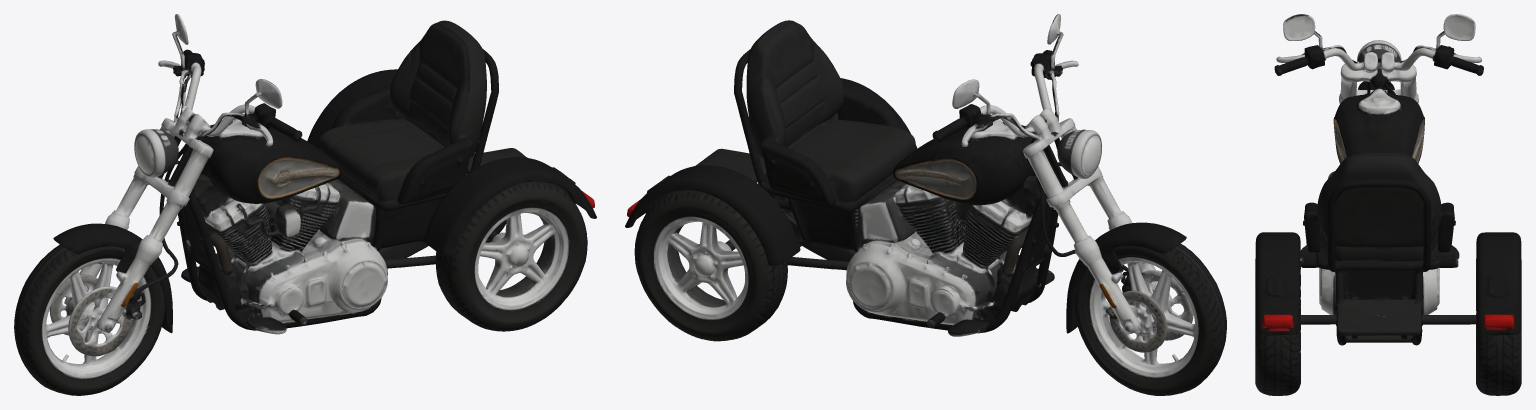
The model's file is 049_trike_three_wheel.glb.
3 views of the same model, side by side, from view 1: azimuth 30°, elevation 25°; view 2: azimuth 150°, elevation 25°; view 3: azimuth 270°, elevation 25° (orthographic). The views are drawn at different scales.
Parts seen in each view (by area): view 1: geometry_0; view 2: geometry_0; view 3: geometry_0.
Part boxes in pixels (x1=…): geometry_0: x1=14, y1=14, x2=596, y2=395; geometry_0: x1=625, y1=14, x2=1226, y2=395; geometry_0: x1=1255, y1=14, x2=1521, y2=395.
Bounding box in the file's own units: 2.8 × 1.59 × 1.34.
1 material, 1 textured.
